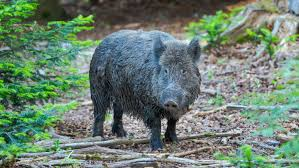boar: (87, 30, 203, 148)
